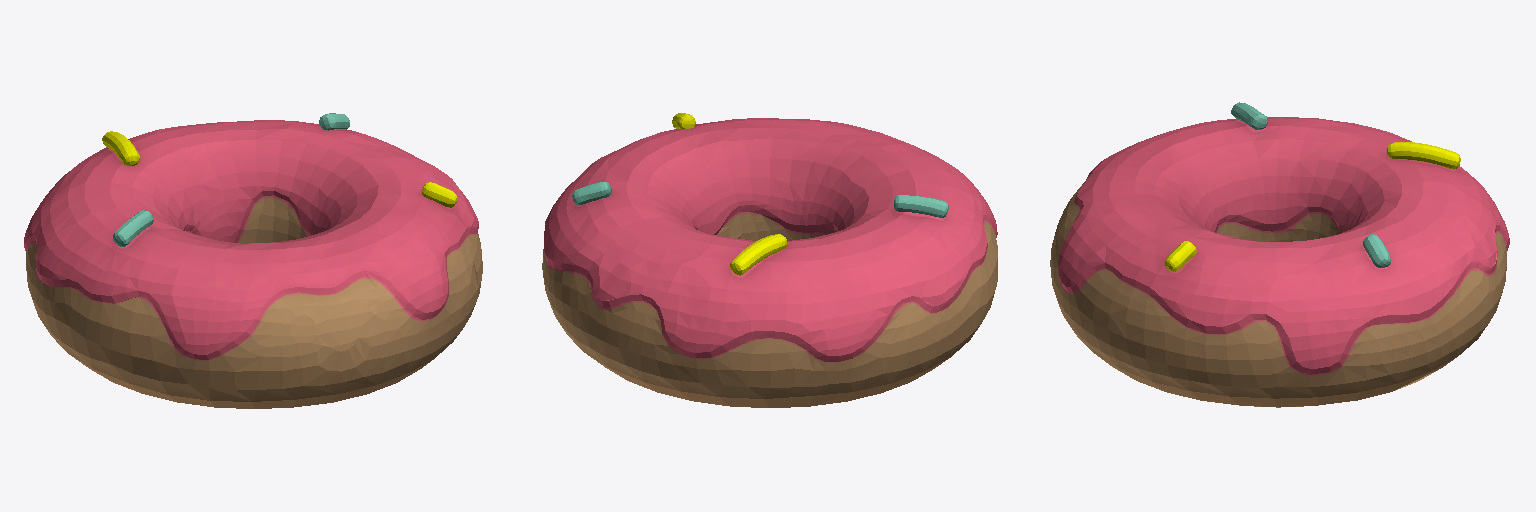
3 renders of one model, left to right at view 1: azimuth 30°, elevation 25°; view 2: azimuth 150°, elevation 25°; view 3: azimuth 270°, elevation 25°, orthographic.
Parts seen in each view (by area): view 1: Doughnut.1_Mesh_0; view 2: Doughnut.1_Mesh_0; view 3: Doughnut.1_Mesh_0.
Boxes of the visible parts, x1=… form: Doughnut.1_Mesh_0: x1=24, y1=113, x2=482, y2=408; Doughnut.1_Mesh_0: x1=542, y1=113, x2=997, y2=407; Doughnut.1_Mesh_0: x1=1050, y1=102, x2=1509, y2=407.
Bounding box in the file's own units: 1.12 × 0.4428 × 1.12.
Materials: 1 (1 with a texture image).